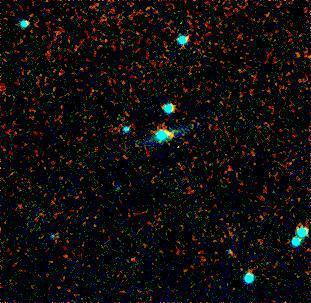star: (153, 119, 183, 149)
